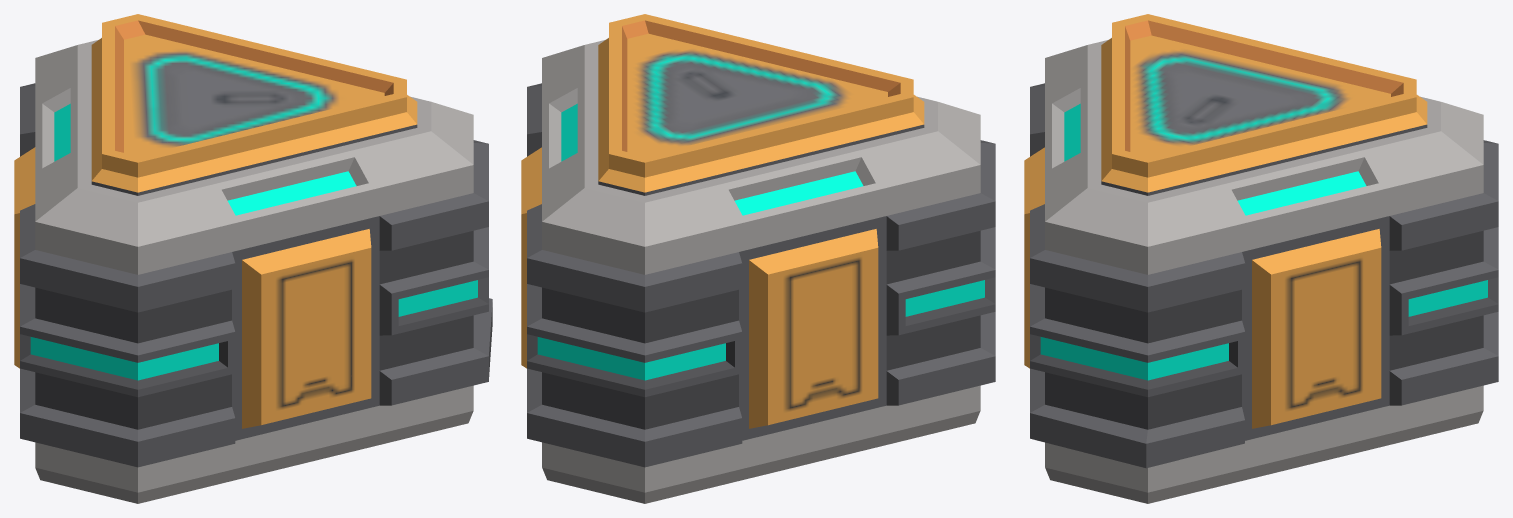
Rendered from SM_Prop_Crate_07.fbx.
3 views of the same model, side by side, from view 1: azimuth 30°, elevation 25°; view 2: azimuth 150°, elevation 25°; view 3: azimuth 270°, elevation 25° (orthographic).
Visible parts, largest first — view 1: SM_Prop_Crate_07; view 2: SM_Prop_Crate_07; view 3: SM_Prop_Crate_07.
Part boxes in pixels (x1,y1,x2,y2): SM_Prop_Crate_07: (14, 14, 492, 503); SM_Prop_Crate_07: (521, 14, 995, 503); SM_Prop_Crate_07: (1024, 14, 1498, 503).
Size of the model in its own units: 86.04 by 54.2 by 74.94.
